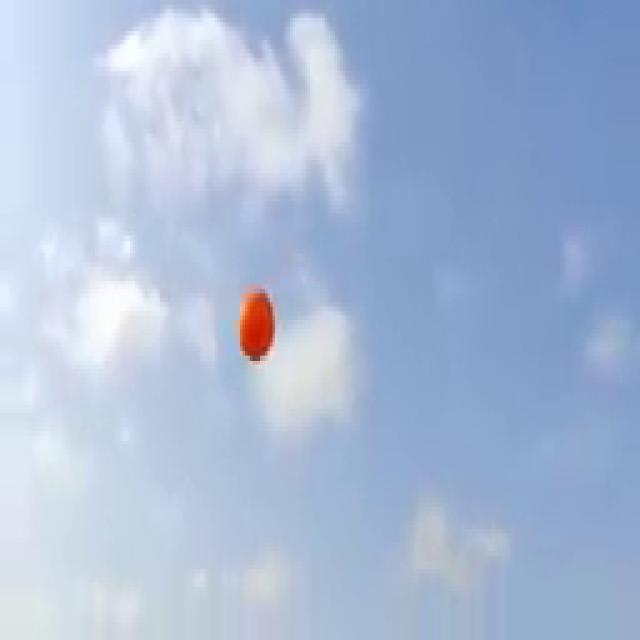red: (238, 283, 275, 362)
